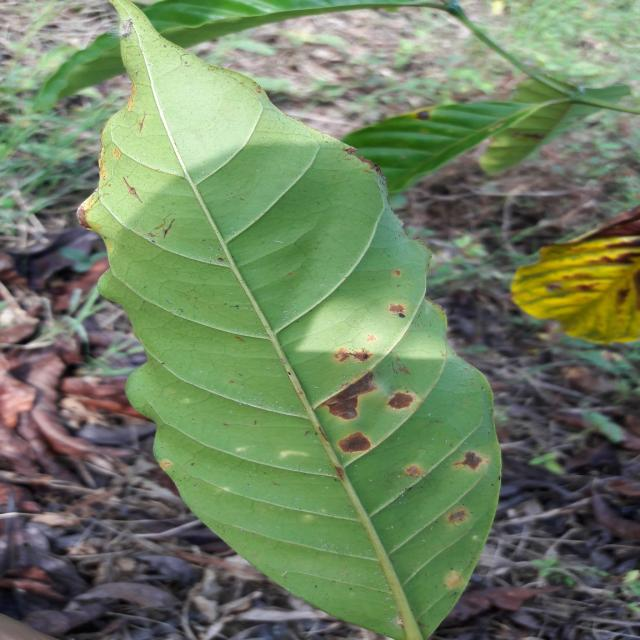Plaga-AranaRoja: (78, 0, 503, 640)
